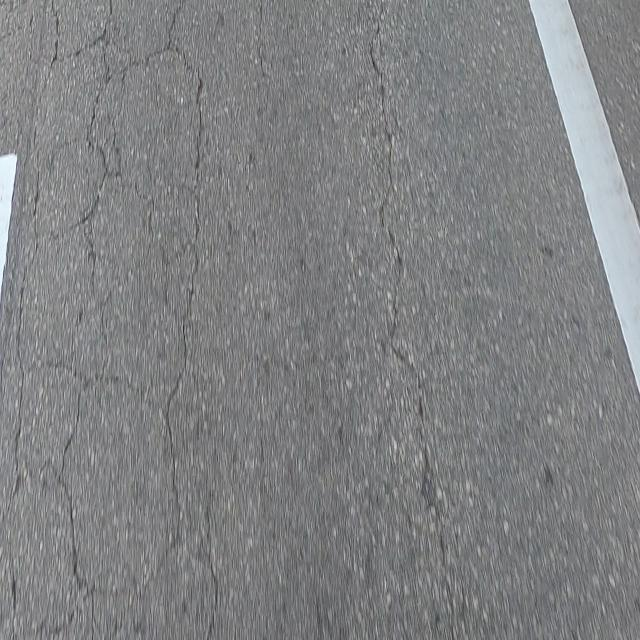Retak-Buaya: (5, 0, 216, 640)
Retak-Memanjang: (367, 0, 449, 570)
